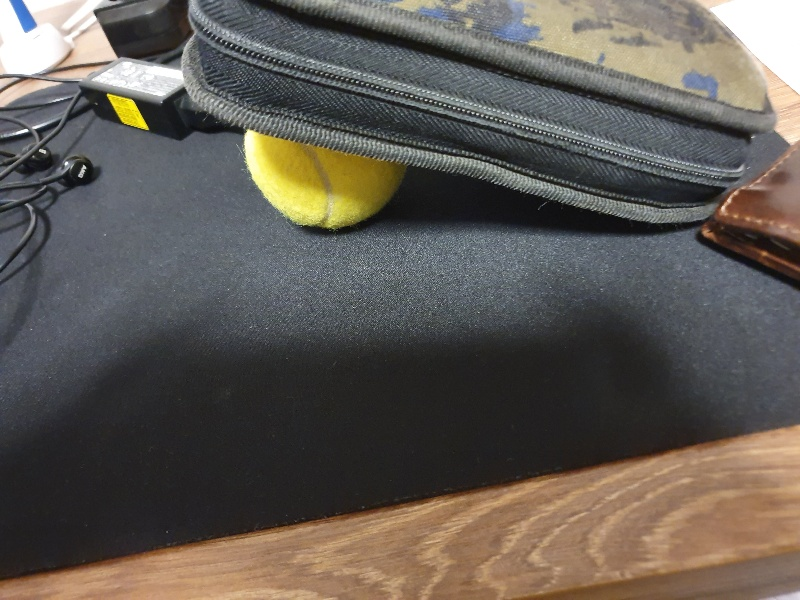Tennisball: (235, 102, 426, 239)
